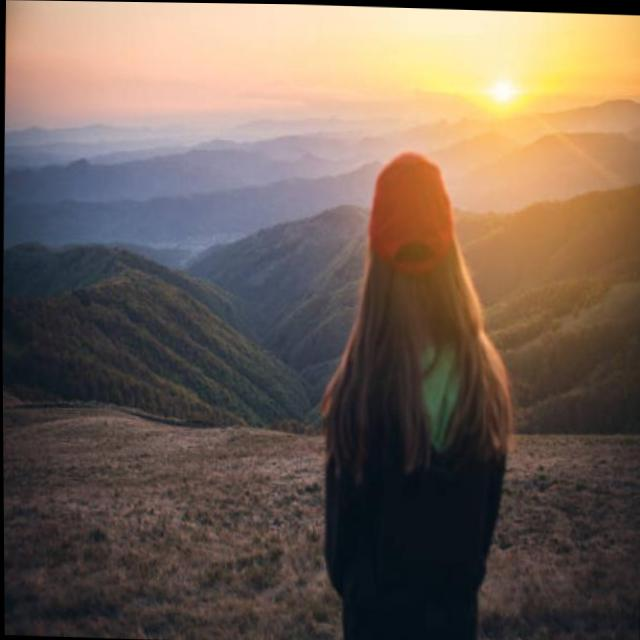no helmet: (354, 134, 479, 357)
